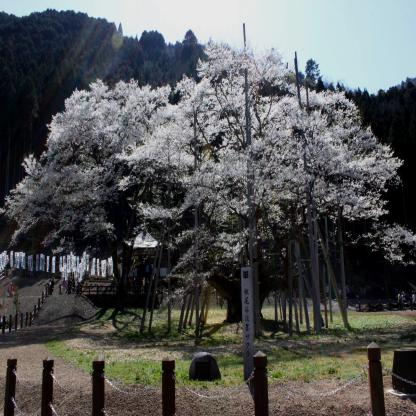EdohiganSakura: (0, 37, 416, 300)
